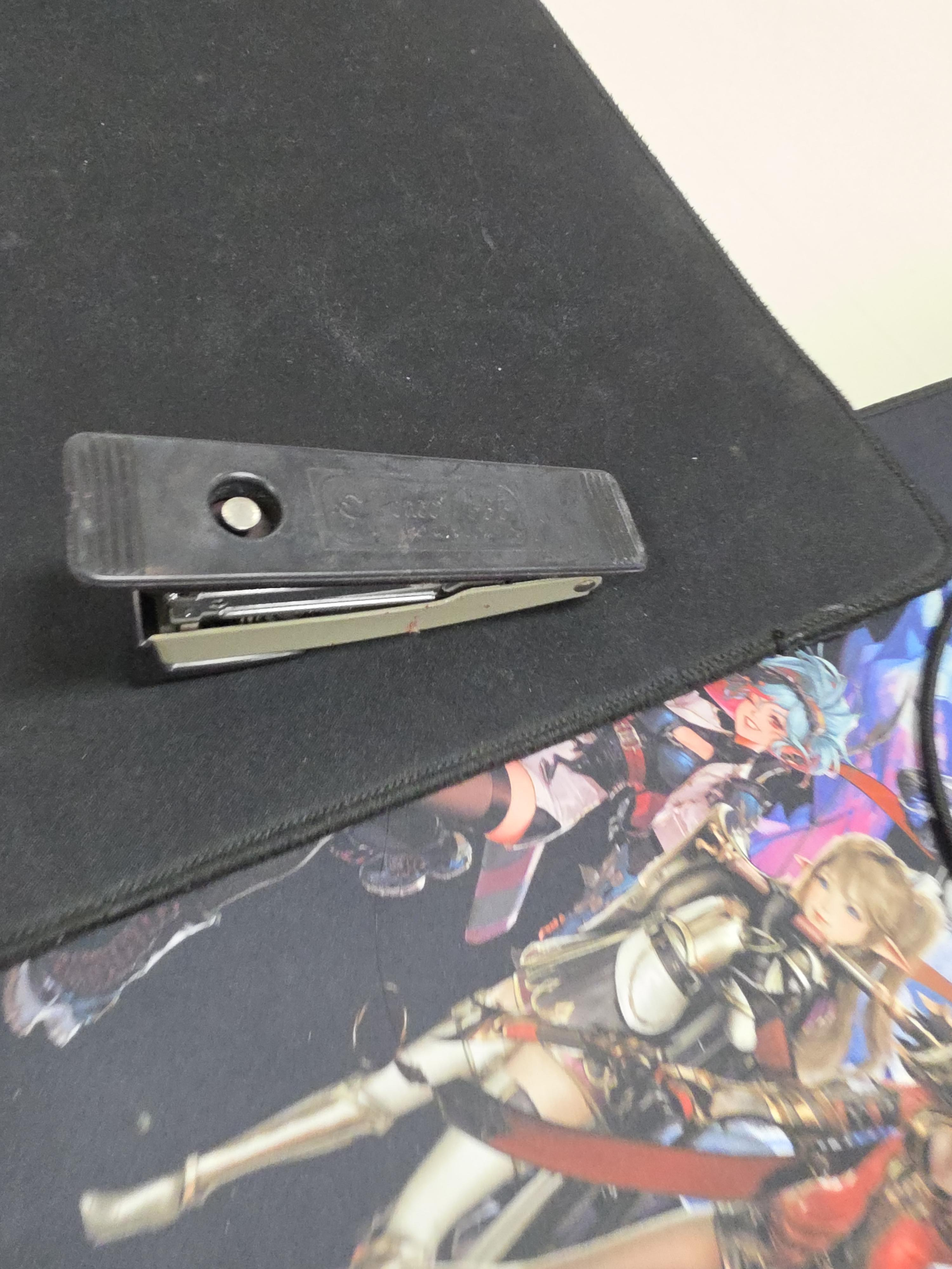stapler: (62, 432, 650, 680)
